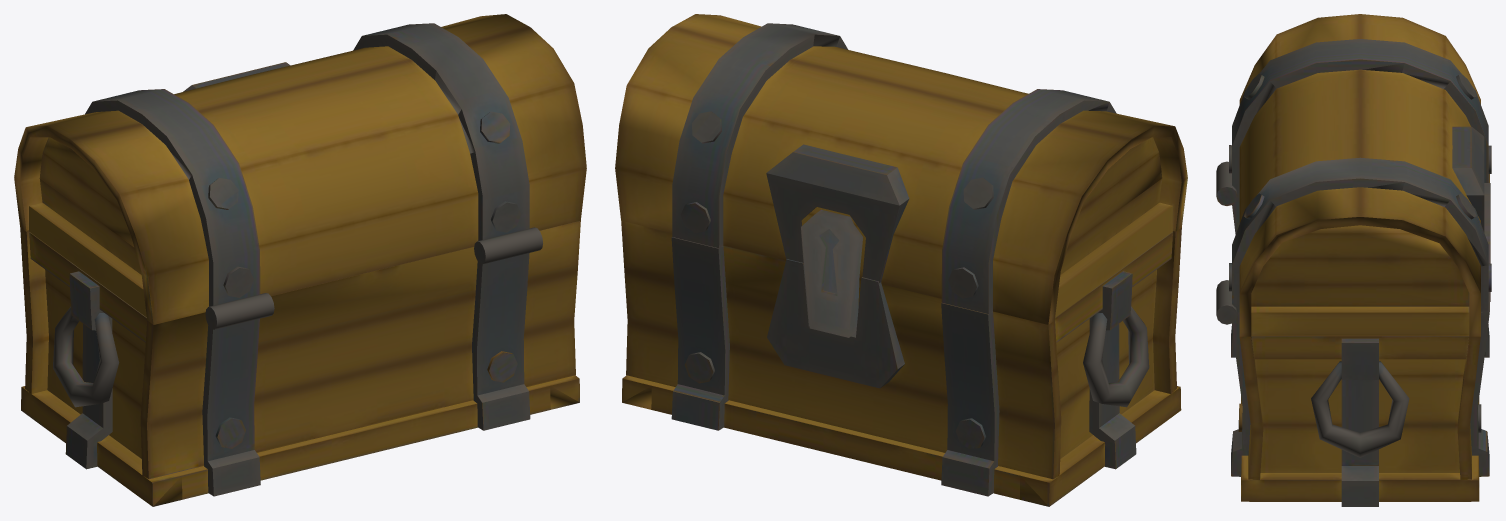
The model's file is Treasure_Chest.gltf.
3 views of the same model, side by side, from view 1: azimuth 30°, elevation 25°; view 2: azimuth 150°, elevation 25°; view 3: azimuth 270°, elevation 25° (orthographic). The views are drawn at different scales.
Parts seen in each view (by area): view 1: Treasure_Chest_Top_Model, Treasure_Chest_Bottom_Model; view 2: Treasure_Chest_Top_Model, Treasure_Chest_Bottom_Model; view 3: Treasure_Chest_Top_Model, Treasure_Chest_Bottom_Model.
Part boxes in pixels (x1,y1,x2,y2): Treasure_Chest_Top_Model: (14,14,586,329); Treasure_Chest_Bottom_Model: (20,220,580,506); Treasure_Chest_Top_Model: (615,14,1187,337); Treasure_Chest_Bottom_Model: (621,221,1181,506); Treasure_Chest_Top_Model: (1216,14,1491,336); Treasure_Chest_Bottom_Model: (1231,174,1489,506).
Bounding box in the file's own units: 0.6571 × 0.4508 × 0.3756.
1 material, 1 textured.
